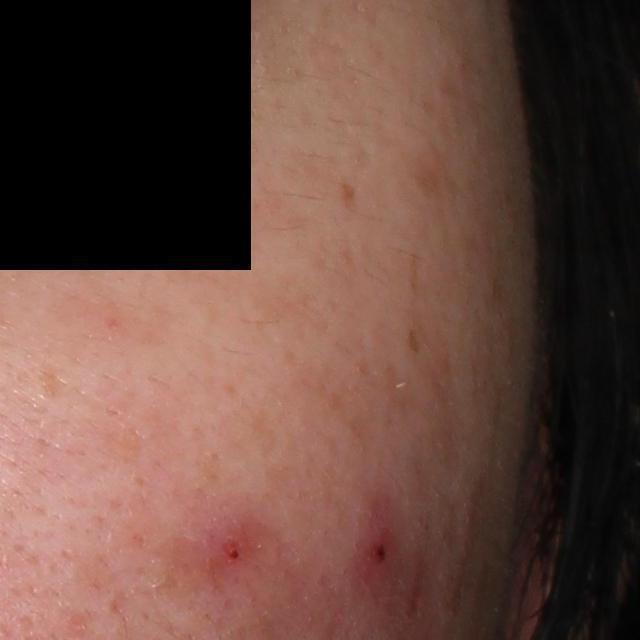melasma: (37, 364, 70, 405), (340, 179, 361, 215), (407, 327, 423, 357)
papule: (362, 511, 405, 574), (214, 523, 251, 569)
